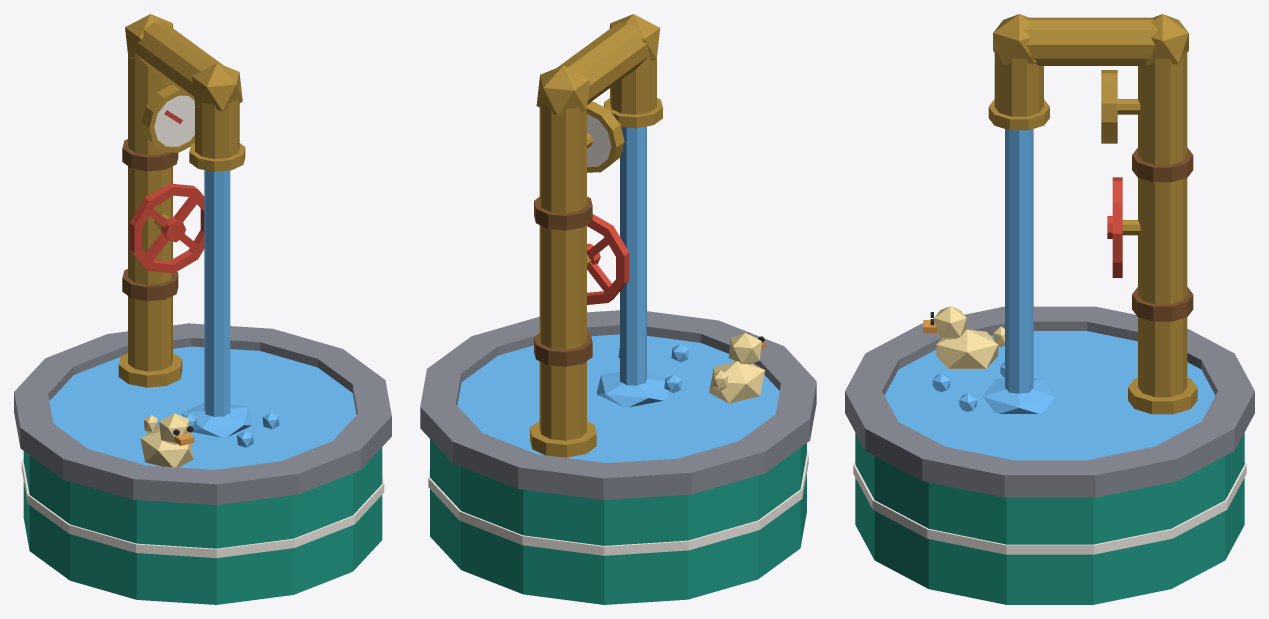
File: CatCafe_Decor_PipeFountain.glb
3 views of the same model, side by side, from view 1: azimuth 30°, elevation 25°; view 2: azimuth 150°, elevation 25°; view 3: azimuth 270°, elevation 25° (orthographic). The views are drawn at different scales.
Parts seen in each view (by area): view 1: CatCafe_Decor_PipeFountain, CatCafe_Decor_PipeFountain_Water; view 2: CatCafe_Decor_PipeFountain, CatCafe_Decor_PipeFountain_Water; view 3: CatCafe_Decor_PipeFountain, CatCafe_Decor_PipeFountain_Water.
Part boxes in pixels (box(x1,y1,x2,y2)): CatCafe_Decor_PipeFountain: box(14, 14, 391, 604); CatCafe_Decor_PipeFountain_Water: box(49, 170, 356, 469); CatCafe_Decor_PipeFountain: box(420, 14, 816, 604); CatCafe_Decor_PipeFountain_Water: box(457, 126, 779, 462); CatCafe_Decor_PipeFountain: box(845, 14, 1254, 604); CatCafe_Decor_PipeFountain_Water: box(884, 129, 1215, 460).
Bounding box in the file's own units: 1.95 × 2.75 × 2.
1 material, 1 textured.
